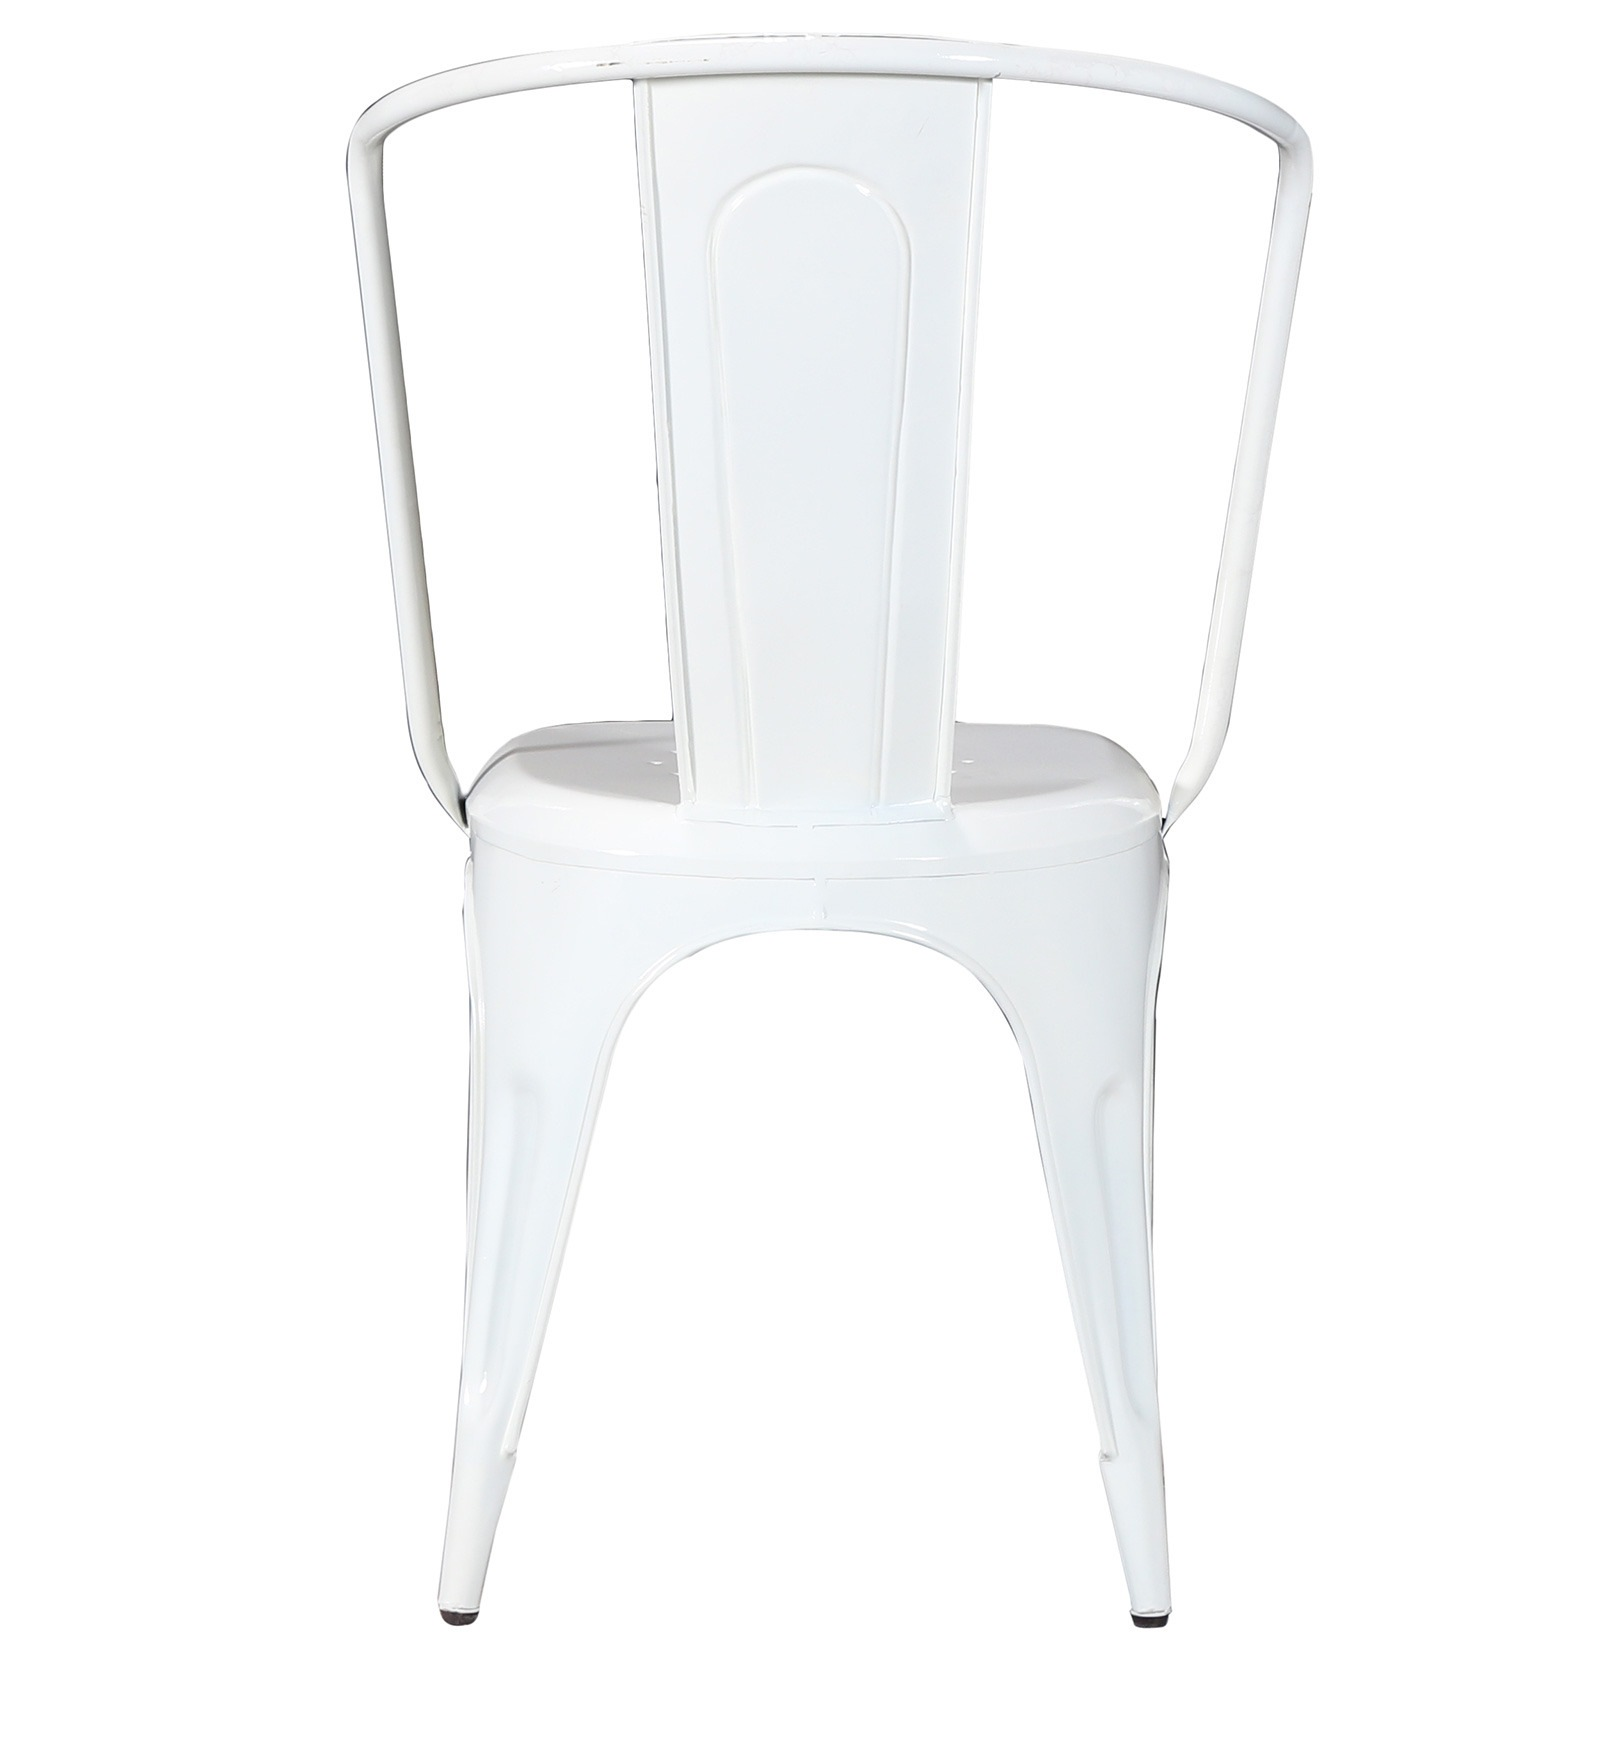Ekati Metal Chair in White Color by Bohemiana: (293, 12, 1320, 1709)
